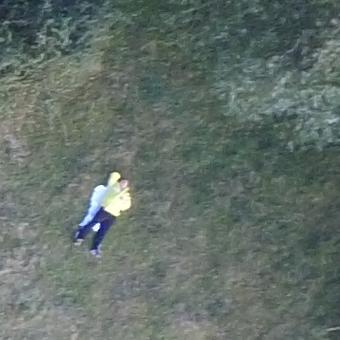human: (71, 175, 140, 255)
